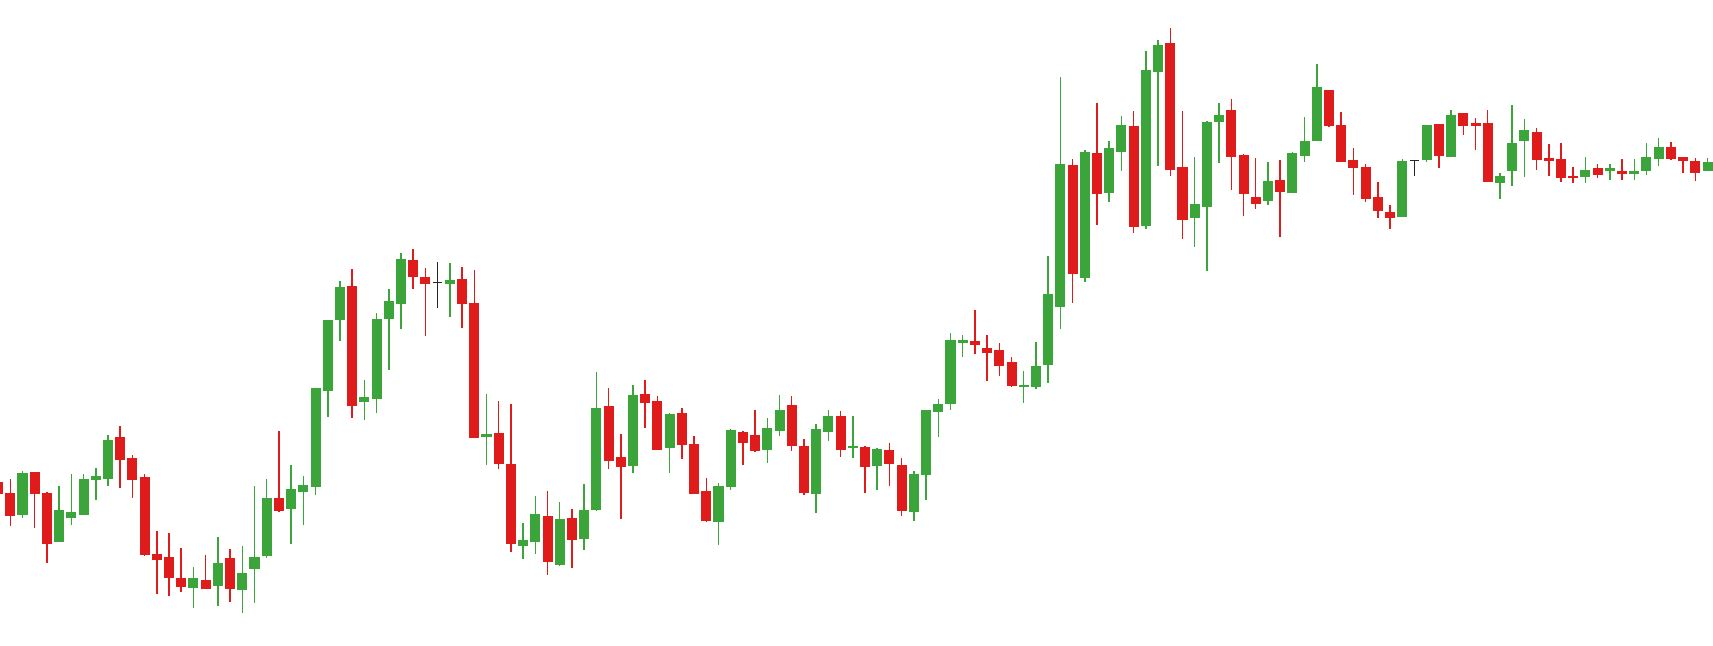buy: (614, 420, 725, 551), (798, 431, 920, 524)
sell: (1051, 30, 1176, 207), (1212, 64, 1337, 176), (16, 425, 137, 528), (344, 248, 420, 355)
